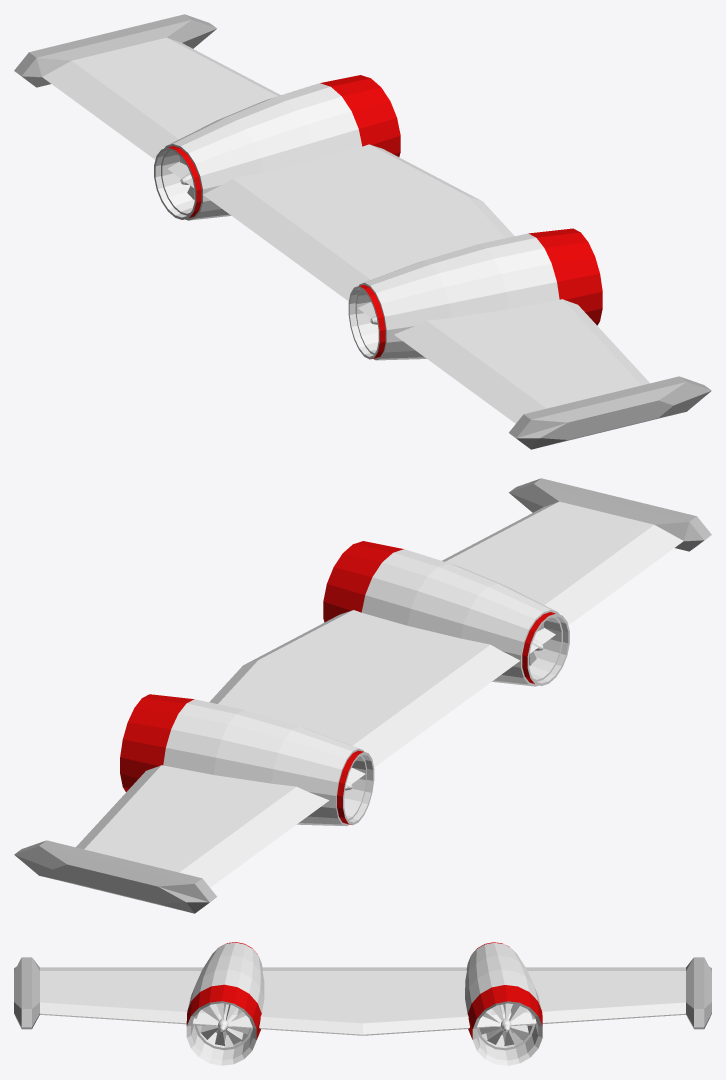
File: Ailes_2.FBX
3 views of the same model, one above another, from view 1: azimuth 30°, elevation 25°; view 2: azimuth 150°, elevation 25°; view 3: azimuth 270°, elevation 25° (orthographic). The views are drawn at different scales.
Parts seen in each view (by area): view 1: Line007; view 2: Line007; view 3: Line007.
Part boxes in pixels (left/top/right/bottom): Line007: left=14, top=14, right=711, bottom=449; Line007: left=14, top=478, right=711, bottom=913; Line007: left=14, top=942, right=711, bottom=1065.
Size of the model in its own units: 58.58 by 26.26 by 239.
